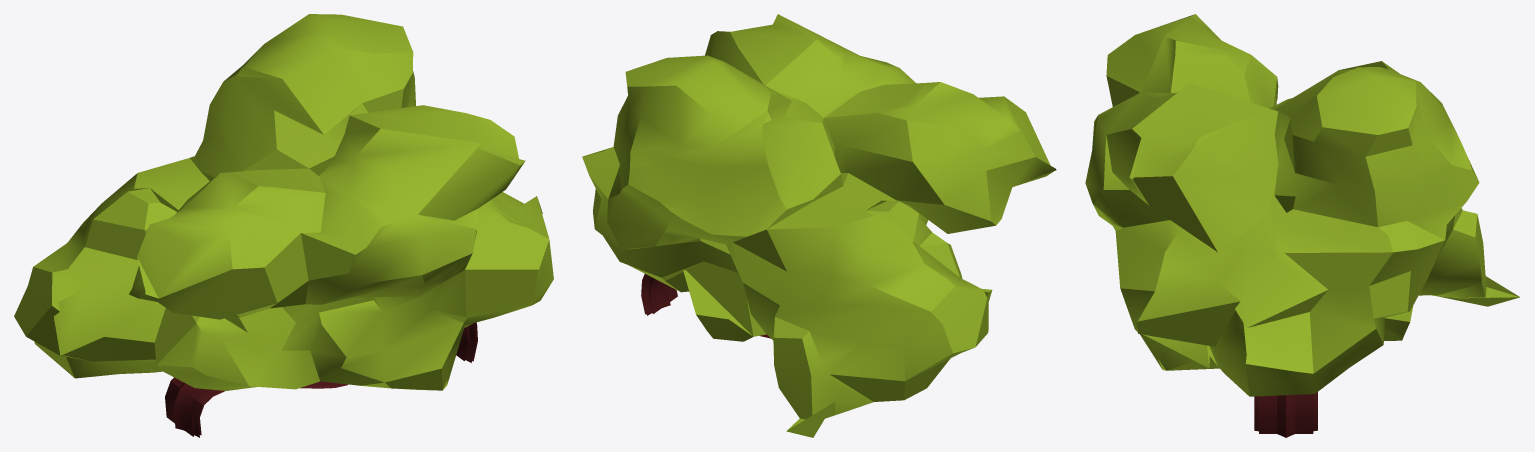
The model's file is goldenbush.fbx.
3 renders of one model, left to right at view 1: azimuth 30°, elevation 25°; view 2: azimuth 150°, elevation 25°; view 3: azimuth 270°, elevation 25°, orthographic. The views are drawn at different scales.
Visible parts, largest first — view 1: GoldenBush; view 2: GoldenBush; view 3: GoldenBush.
Part boxes in pixels (<box>): GoldenBush: <box>14,14,553,437</box>; GoldenBush: <box>582,14,1056,437</box>; GoldenBush: <box>1085,14,1519,437</box>.
Size of the model in its own units: 1691 by 1153 by 1396.
